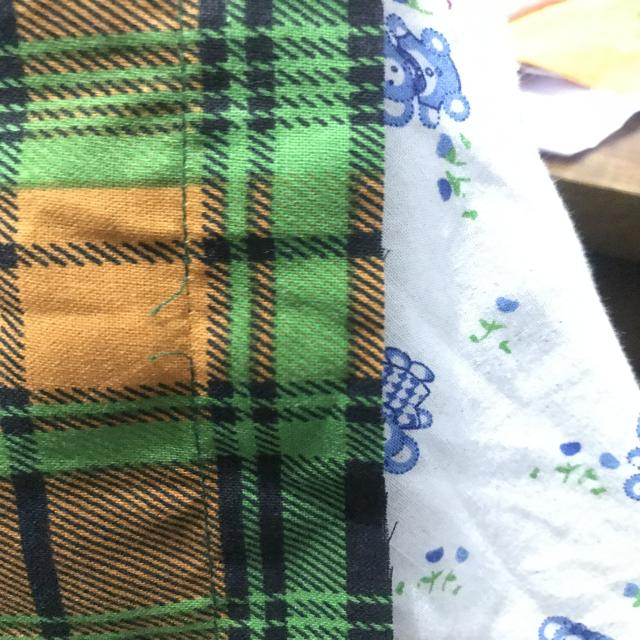broken: (134, 252, 210, 380)
good: (168, 135, 194, 218)
